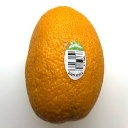orange: (25, 5, 105, 122)
